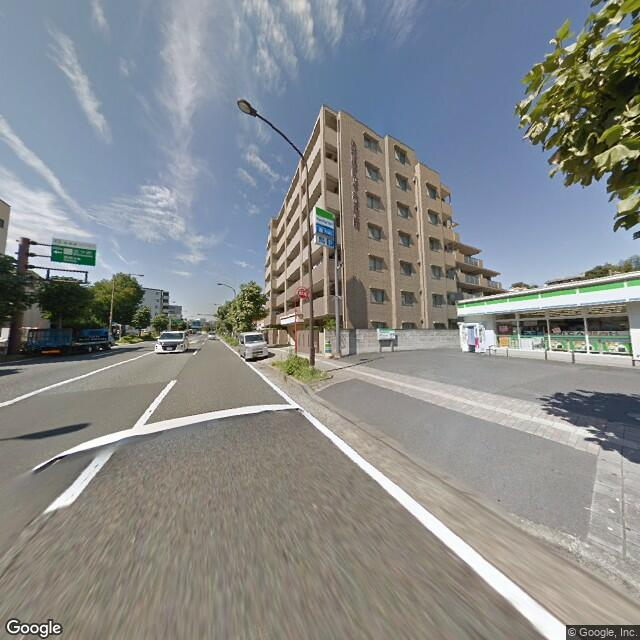family_mart: (458, 273, 639, 317), (313, 209, 335, 238)
